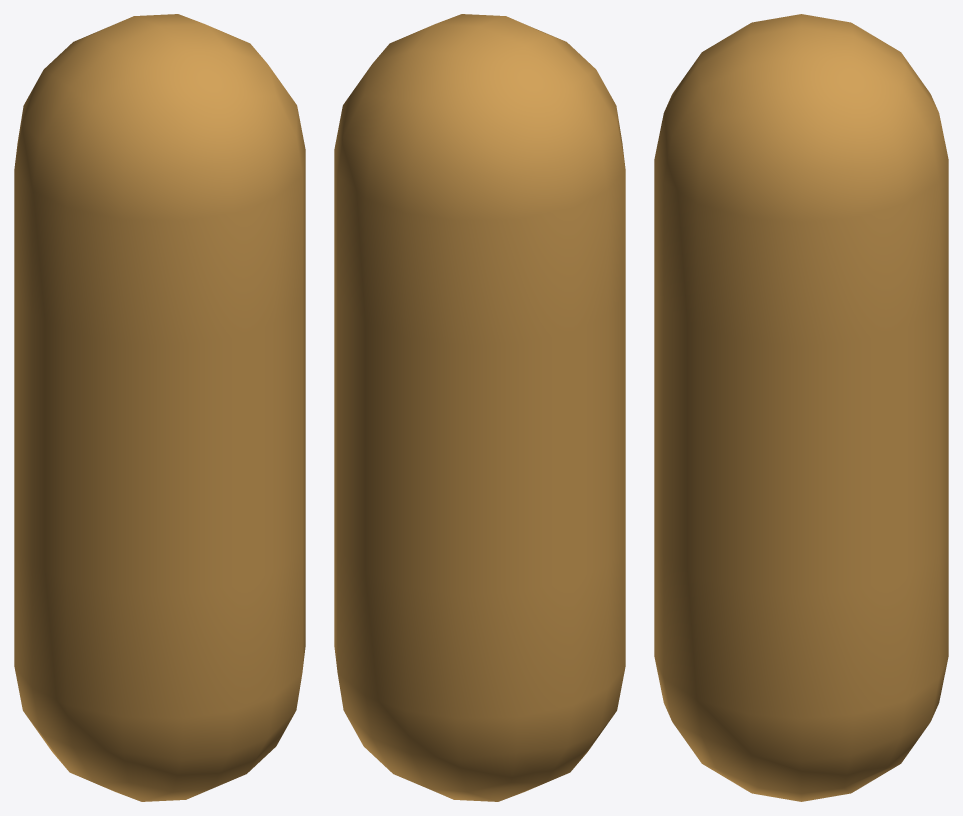
File: PlayerCapsule.fbx
The picture shows the model from 3 angles, left to right: view 1: azimuth 30°, elevation 25°; view 2: azimuth 150°, elevation 25°; view 3: azimuth 270°, elevation 25°; orthographic projection.
Parts seen in each view (by area): view 1: PlayerCapsule; view 2: PlayerCapsule; view 3: PlayerCapsule.
Part boxes in pixels (left/top/right/bottom): PlayerCapsule: left=14, top=14, right=305, bottom=801; PlayerCapsule: left=334, top=14, right=625, bottom=801; PlayerCapsule: left=654, top=14, right=948, bottom=801.
Bounding box in the file's own units: 70 × 200 × 70.
